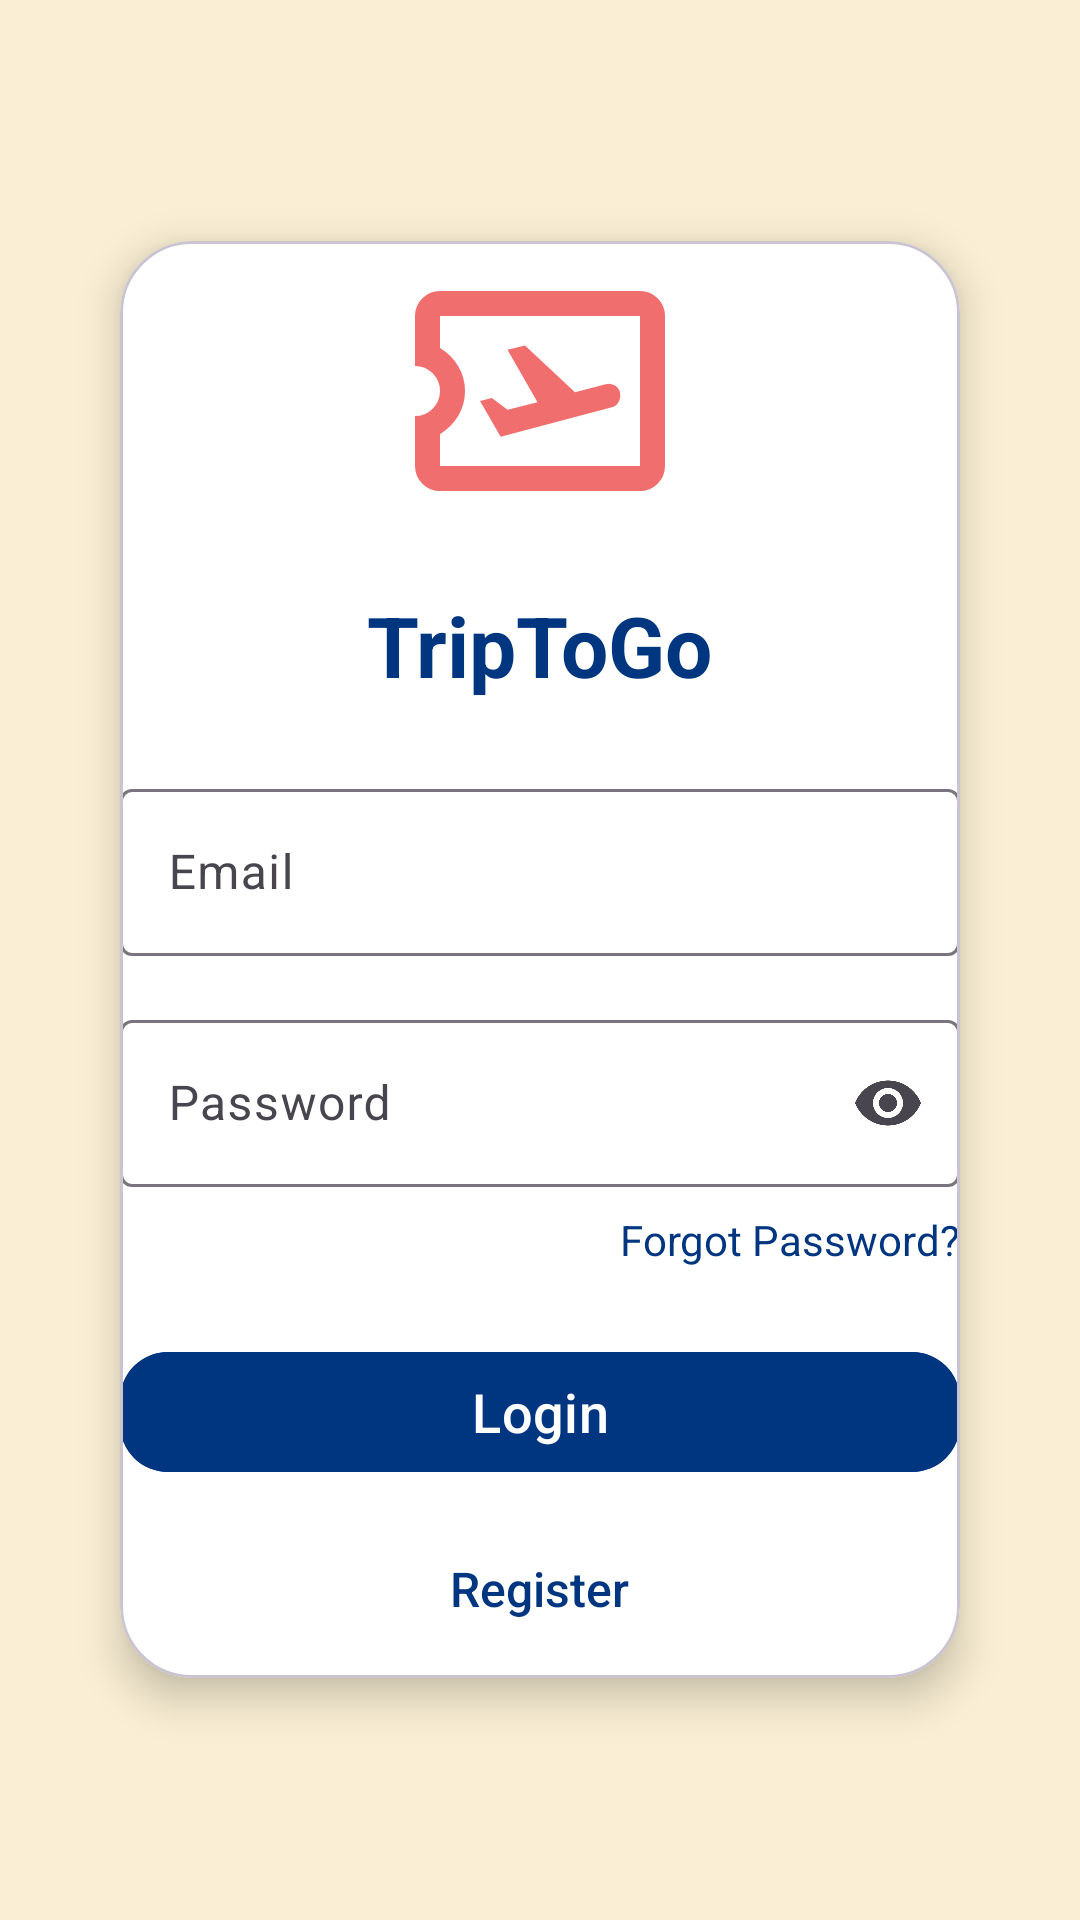

Icons on this 1080px x 1920px Android screen, each with its box as (x1, y1, x2, y2):
airplane ticket: (415, 291, 665, 491)
